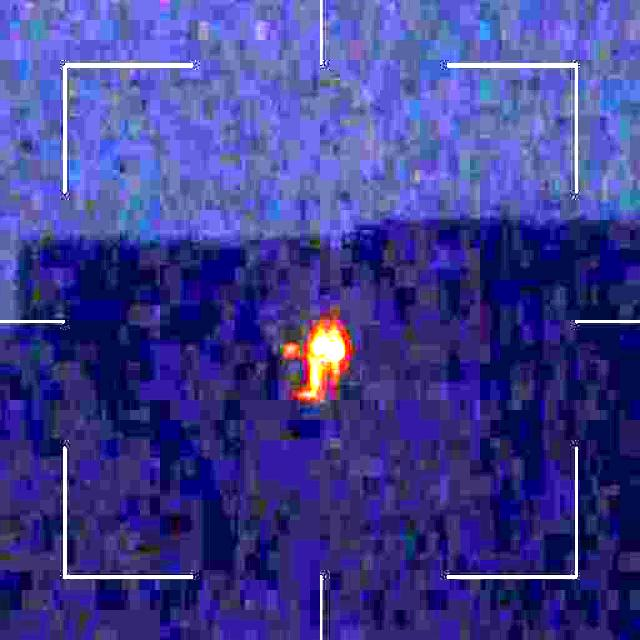bird: (266, 324, 341, 398)
